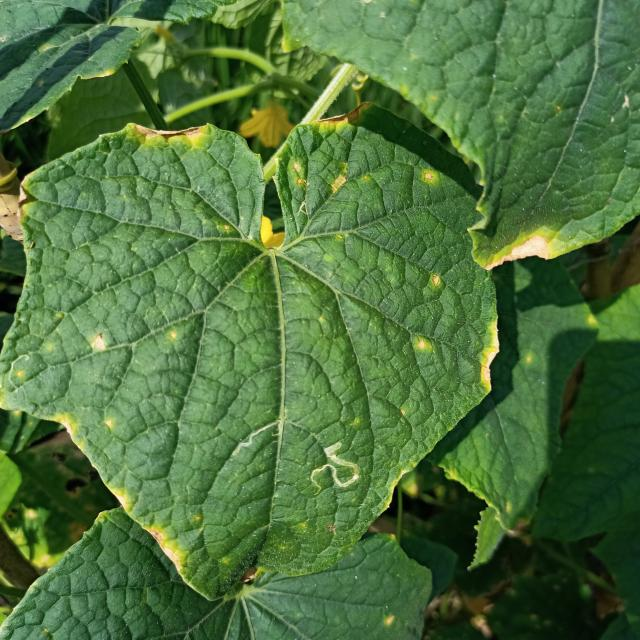disease_cucumber: (284, 102, 367, 195), (49, 404, 120, 445), (410, 336, 430, 358), (89, 333, 108, 354), (428, 272, 444, 290), (423, 170, 436, 184)
